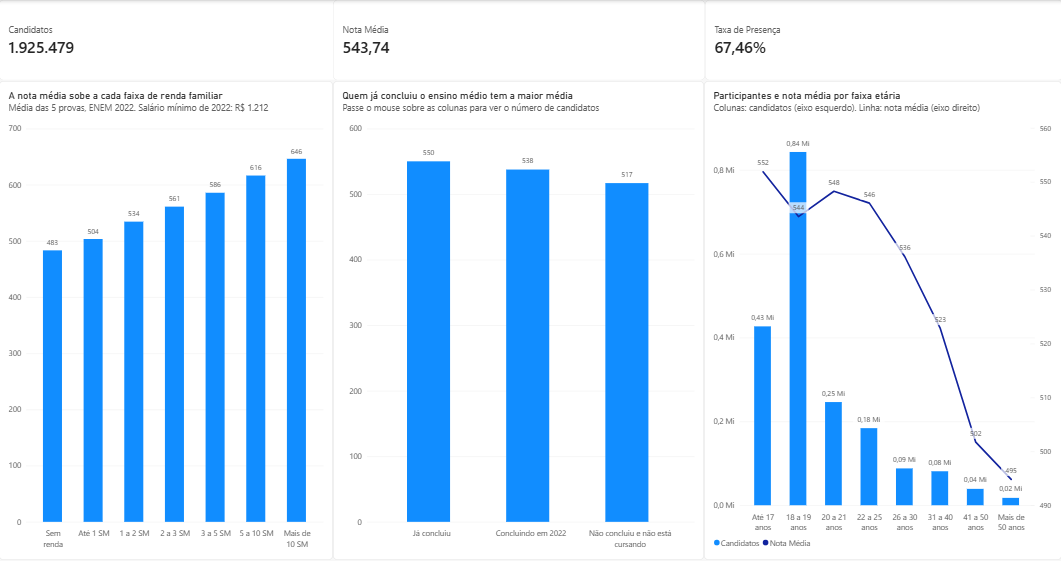

This screenshot's page, from the dashboard's own definition file:
{"tool":"powerbi","page":{"name":"Perfil e Desempenho","canvas":[1920,1080],"ordinal":0},"visuals":[{"type":"cardVisual","title":"Cas","fields":{"Data":["fEnem.Candidatos (texto)"]},"box":[0,0,614.9,145.8],"z":0},{"type":"cardVisual","fields":{"Data":["fEnem.Nota Média"]},"box":[603.1,0,672,145.8],"z":1},{"type":"clusteredColumnChart","title":"A nota média sobe a cada faixa de renda familiar","fields":{"Category":["dRenda.FAIXA_RENDA"],"Y":["fEnem.Nota Média"]},"box":[0,145.8,603.1,865.2],"z":2},{"type":"cardVisual","fields":{"Data":["fPresencaUF.Taxa de Presença"]},"box":[1275.1,0,646.4,145.8],"z":3},{"type":"lineClusteredColumnComboChart","title":"Quem já concluiu o ensino médio tem a maior média","fields":{"Category":["dConclusao.SITUACAO_CONCLUSAO"],"Y":["fEnem.Nota Média"]},"box":[603.1,145.8,670.1,865.2],"z":4},{"type":"lineClusteredColumnComboChart","title":"Participantes e nota média por faixa etária","fields":{"Category":["dFaixaEtaria.FAIXA_ETARIA"],"Y":["fEnem.Candidatos"],"Y2":["fEnem.Nota Média"]},"box":[1273.1,145.8,646.4,865.2],"z":5}]}

Visuals, with their boxes on the page's 1920x1080 design canvas (x1, y1, x2, y2). These are canvas units, not pixel positions in the 1061x561 screenshot, which may show the page scaled, cropped or inside an application window:
"Cas" cardVisual: x1=0, y1=0, x2=615, y2=146
cardVisual - fEnem.Nota Média: x1=603, y1=0, x2=1275, y2=146
"A nota média sobe a cada faixa de renda familiar" clusteredColumnChart: x1=0, y1=146, x2=603, y2=1011
cardVisual - fPresencaUF.Taxa de Presença: x1=1275, y1=0, x2=1922, y2=146
"Quem já concluiu o ensino médio tem a maior média" lineClusteredColumnComboChart: x1=603, y1=146, x2=1273, y2=1011
"Participantes e nota média por faixa etária" lineClusteredColumnComboChart: x1=1273, y1=146, x2=1920, y2=1011
